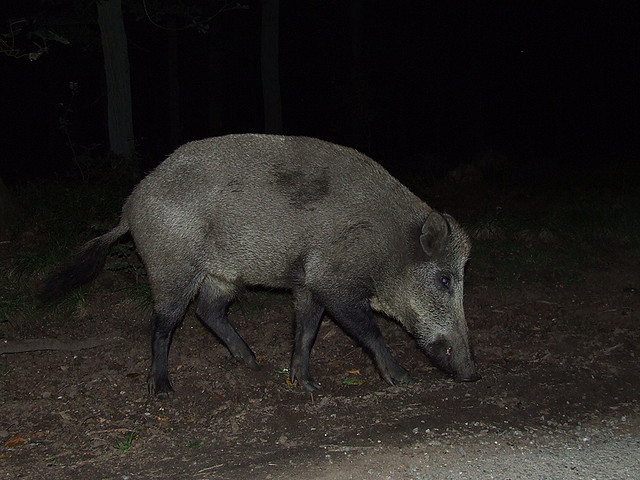boar: (98, 130, 481, 401)
